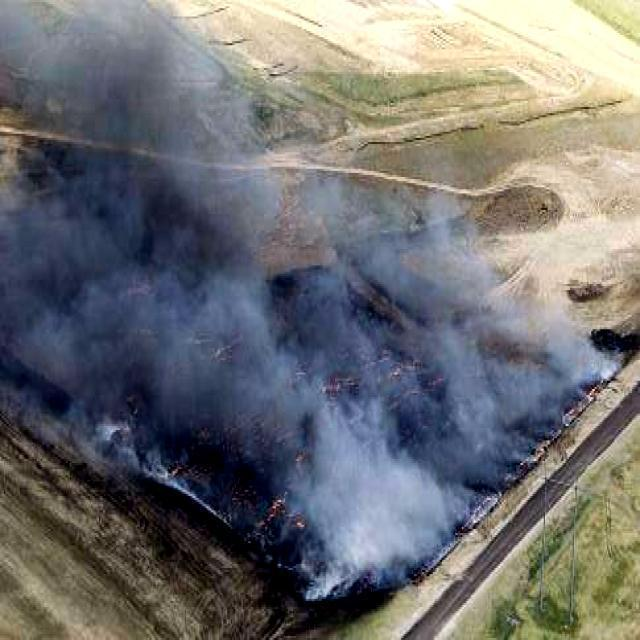Smoke: (1, 0, 630, 562)
